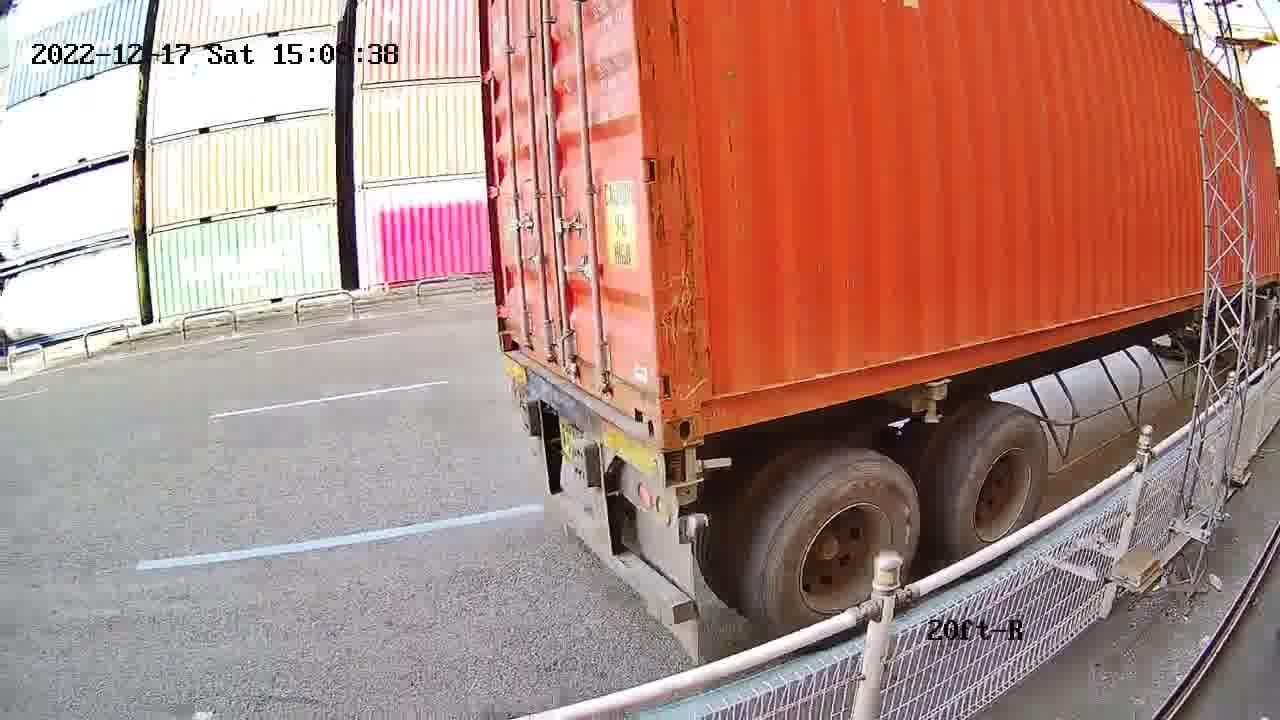Chassis: (501, 352, 669, 488)
Cone: (662, 438, 709, 490)
Hole_L: (657, 360, 730, 445)
Hole_R: (618, 362, 657, 442)
Tire: (764, 464, 920, 623), (949, 414, 1049, 551)
